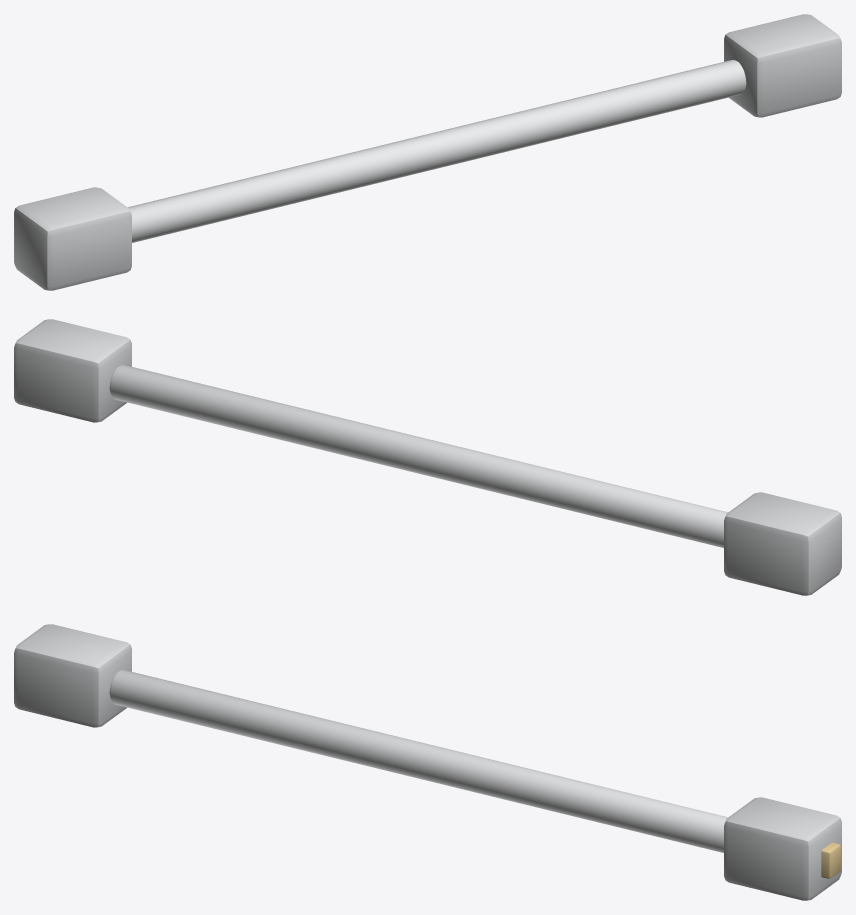
The model's file is ESQ-FER-005.glb.
The picture shows the model from 3 angles, top to bottom: view 1: azimuth 30°, elevation 25°; view 2: azimuth 150°, elevation 25°; view 3: azimuth 330°, elevation 25°; orthographic projection.
Visible parts, largest first — view 1: ESQ-FER-005_barra, ESQ-FER-005_mecanismo-1, ESQ-FER-005_mecanismo1; view 2: ESQ-FER-005_barra, ESQ-FER-005_mecanismo-1, ESQ-FER-005_mecanismo1; view 3: ESQ-FER-005_barra, ESQ-FER-005_mecanismo1, ESQ-FER-005_mecanismo-1, ESQ-FER-005_trinco.
Part boxes in pixels (x1,y1,x2,y2): ESQ-FER-005_barra: (128, 60, 746, 242); ESQ-FER-005_mecanismo-1: (14, 187, 131, 290); ESQ-FER-005_mecanismo1: (724, 14, 841, 117); ESQ-FER-005_barra: (109, 365, 727, 547); ESQ-FER-005_mecanismo-1: (724, 492, 841, 595); ESQ-FER-005_mecanismo1: (14, 319, 131, 422); ESQ-FER-005_barra: (109, 670, 727, 852); ESQ-FER-005_mecanismo1: (724, 797, 841, 900); ESQ-FER-005_mecanismo-1: (14, 624, 131, 727); ESQ-FER-005_trinco: (821, 842, 840, 878).
Size of the model in its own units: 0.91 by 0.07 by 0.07.
